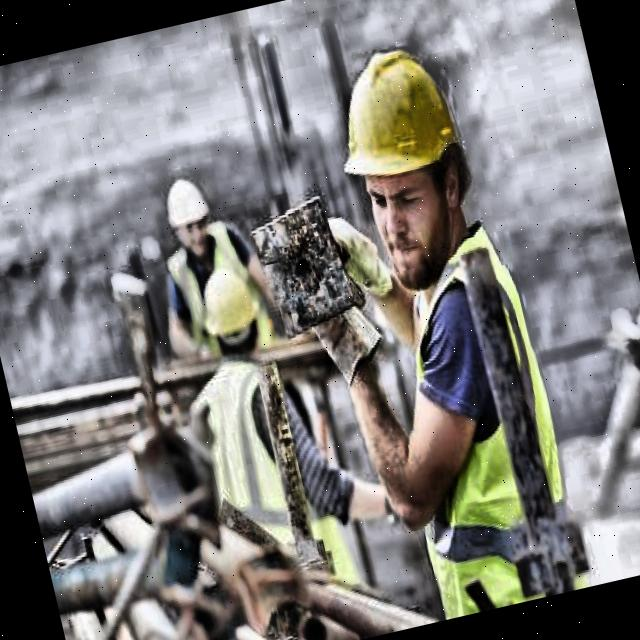helmet: (306, 24, 502, 305), (190, 260, 270, 362), (156, 168, 222, 264)
